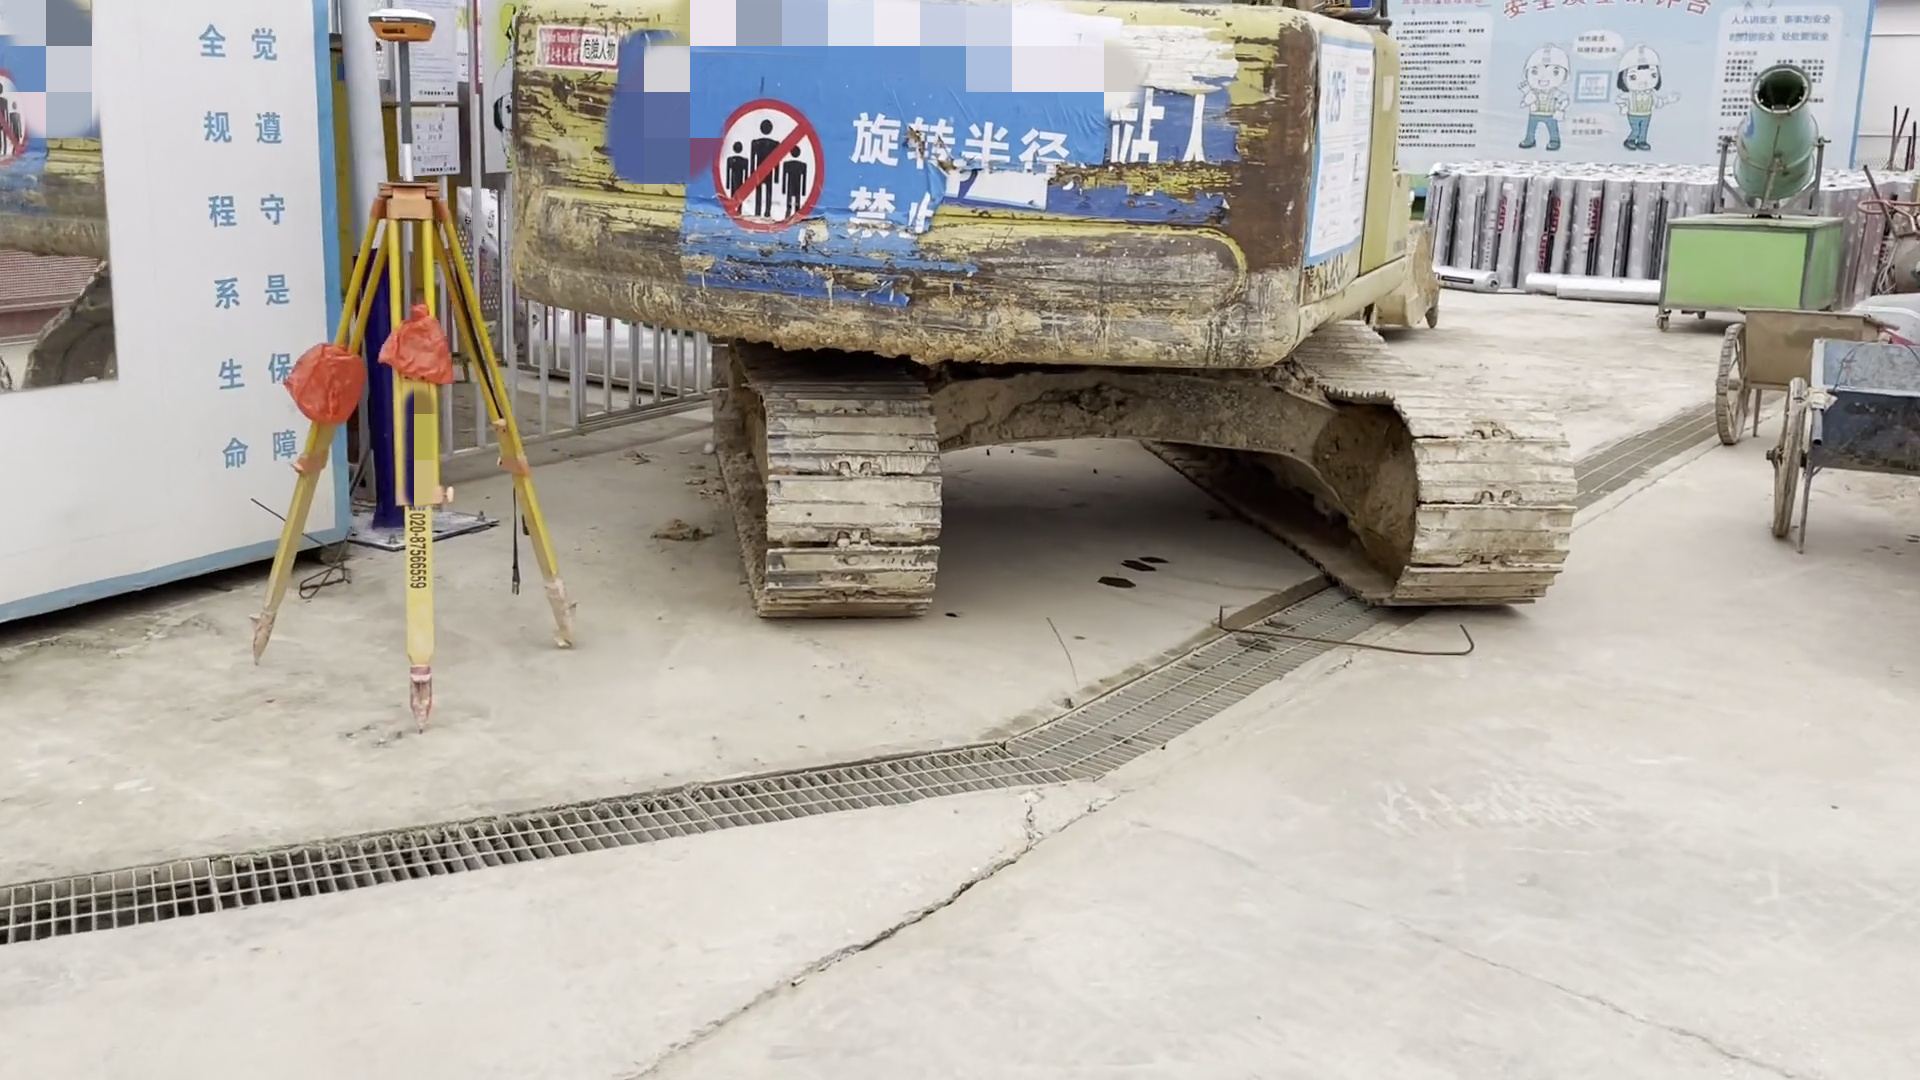handcart: (1691, 303, 1920, 556)
slogan: (684, 42, 1077, 305)
